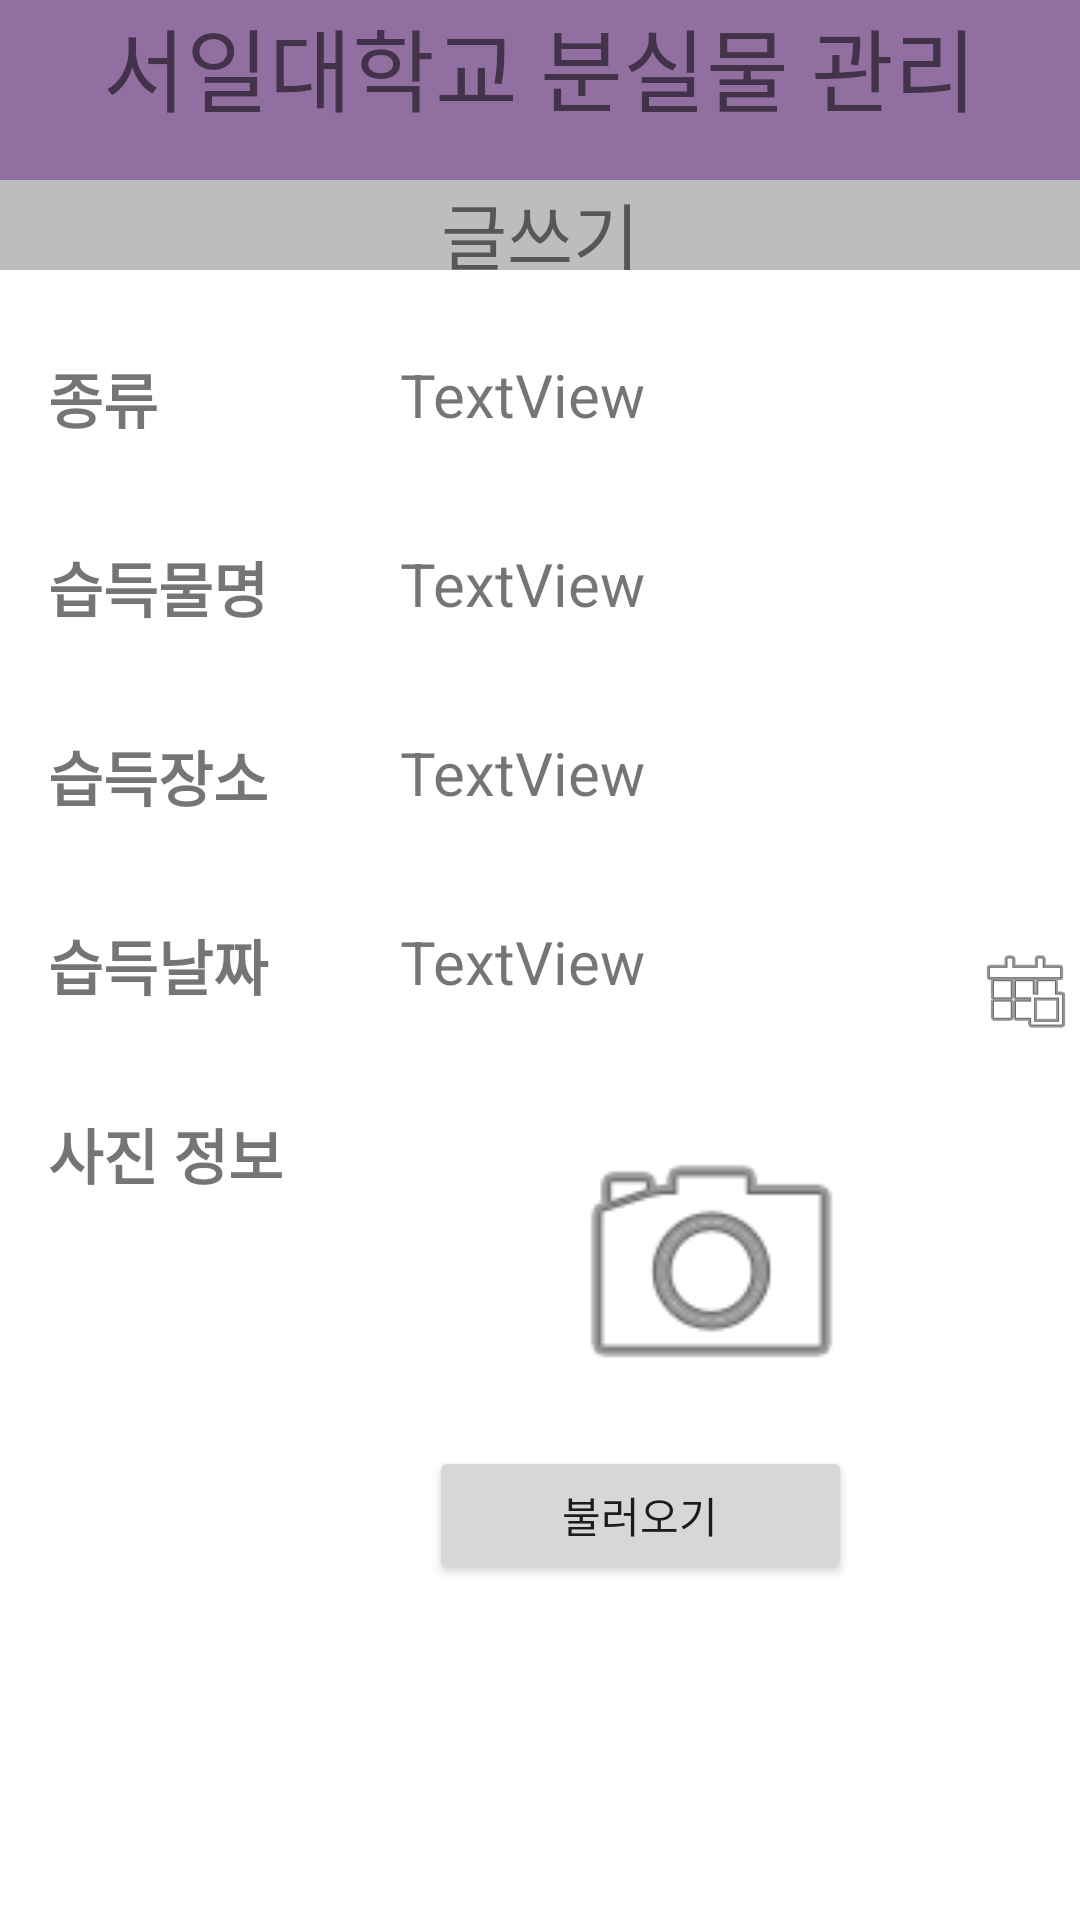

Named icons in this screenshot (1080px×1920px) and their bounding boxes, (x1, y1, x2, y2):
camera: (591, 1165, 832, 1357)
today: (987, 955, 1065, 1028)
